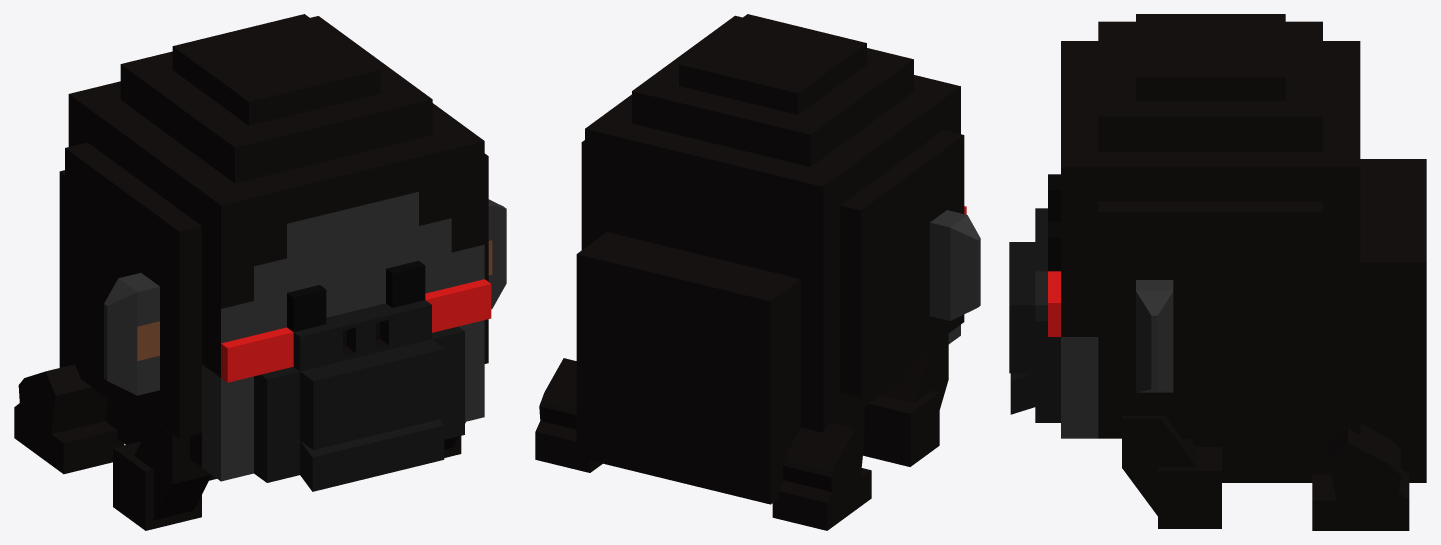
Rendered from Gorila.FBX.
3 renders of one model, left to right at view 1: azimuth 30°, elevation 25°; view 2: azimuth 150°, elevation 25°; view 3: azimuth 270°, elevation 25°, orthographic. The views are drawn at different scales.
Visible parts, largest first — view 1: Box006, Box011, Box009, Box007; view 2: Box006, Box007, Box011, Box009, Box010; view 3: Box006, Box007, Box008, Box010.
Part boxes in pixels (x1,y1,x2,y2): Box006: (65, 14, 506, 491); Box011: (14, 364, 124, 474); Box009: (113, 419, 211, 530); Box007: (59, 170, 216, 480); Box006: (581, 14, 980, 432); Box007: (576, 232, 864, 504); Box011: (772, 423, 871, 530); Box009: (863, 334, 948, 466); Box010: (535, 358, 602, 472); Box006: (1009, 14, 1360, 438); Box007: (1190, 159, 1426, 482); Box008: (1122, 415, 1221, 528); Box010: (1312, 423, 1409, 530).
Size of the model in its own units: 35.09 by 34.83 by 32.3.
